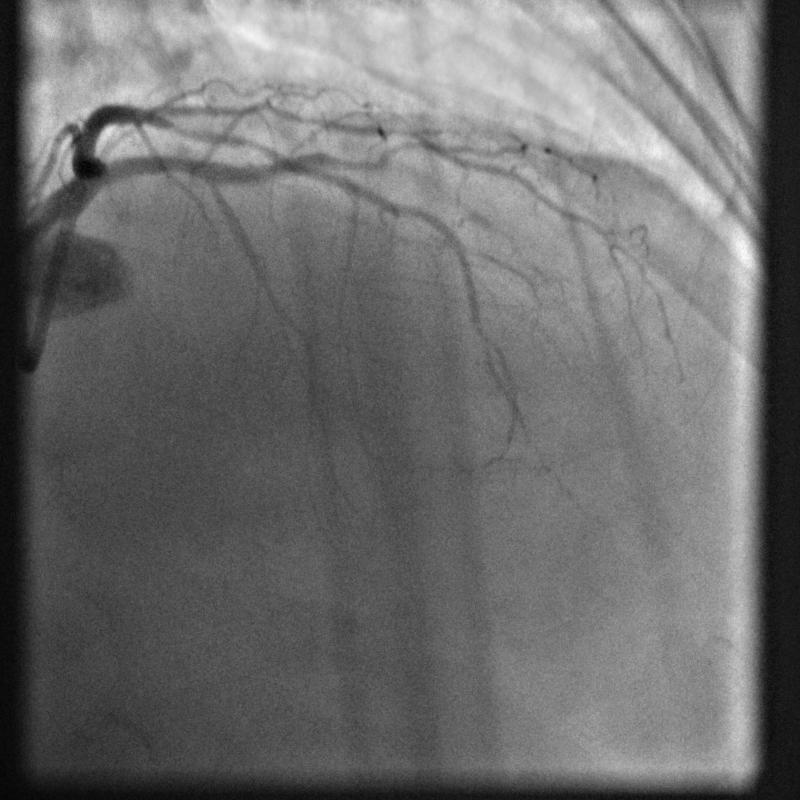Stenosis: (155, 115, 222, 145)
